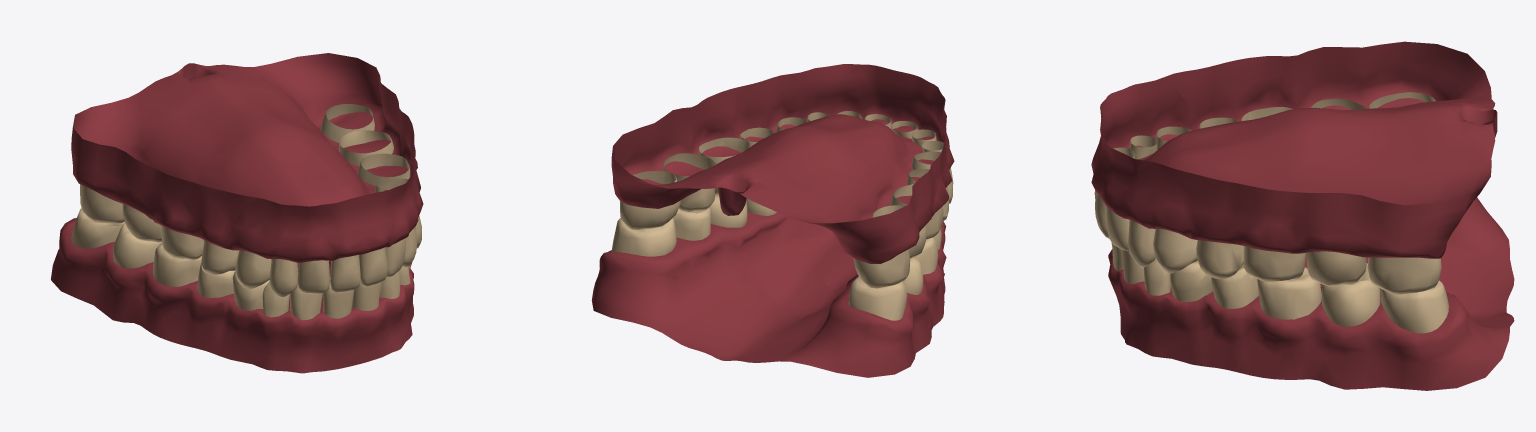
File: jaw-mobile.glb
3 views of the same model, side by side, from view 1: azimuth 30°, elevation 25°; view 2: azimuth 150°, elevation 25°; view 3: azimuth 270°, elevation 25° (orthographic). The views are drawn at different scales.
Visible parts, largest first — view 1: gum.upper, gum.lower, tooth.46, tooth.47, tooth.48, tooth.18, tooth.14, tooth.27, tooth.16, tooth.12, tooth.11, tooth.26 (+12 smaller); view 2: gum.upper, gum.lower, tooth.38, tooth.48, tooth.28, tooth.18, tooth.27, tooth.37, tooth.36, tooth.26, tooth.16, tooth.46 (+3 smaller); view 3: gum.upper, gum.lower, tooth.38, tooth.28, tooth.36, tooth.37, tooth.27, tooth.26, tooth.24, tooth.25, tooth.35, tooth.34 (+6 smaller).
Boxes of the visible parts, box(x1,y1,x2,y2) form: gum.upper: box(71, 53, 423, 262); gum.lower: box(51, 218, 414, 373); tooth.46: box(153, 242, 201, 286); tooth.47: box(113, 223, 161, 268); tooth.48: box(71, 208, 124, 248); tooth.18: box(80, 184, 124, 223); tooth.14: box(235, 250, 271, 288); tooth.27: box(338, 130, 393, 166); tooth.16: box(161, 226, 203, 259); tooth.12: box(297, 260, 329, 293); tooth.11: box(330, 255, 360, 292); tooth.26: box(357, 153, 410, 186); gum.upper: box(611, 64, 954, 263); gum.lower: box(591, 211, 946, 377); tooth.38: box(611, 218, 676, 256); tooth.48: box(848, 276, 907, 320); tooth.28: box(620, 171, 680, 229); tooth.18: box(853, 249, 910, 288); tooth.27: box(662, 153, 715, 212); tooth.37: box(673, 207, 710, 240); tooth.36: box(709, 195, 747, 227); tooth.26: box(699, 137, 750, 195); tooth.16: box(890, 184, 943, 239); tooth.46: box(914, 237, 937, 274); gum.upper: box(1091, 41, 1497, 258); gum.lower: box(1108, 197, 1514, 390); tooth.38: box(1379, 280, 1448, 333); tooth.28: box(1367, 257, 1441, 294); tooth.36: box(1257, 267, 1321, 319); tooth.37: box(1321, 263, 1380, 326); tooth.27: box(1306, 251, 1366, 286); tooth.26: box(1243, 246, 1305, 281); tooth.24: box(1153, 228, 1197, 273); tooth.25: box(1196, 240, 1243, 279); tooth.35: box(1211, 264, 1259, 308); tooth.34: box(1170, 260, 1212, 302).
Size of the model in its own units: 0.711 by 0.4066 by 0.7181.
